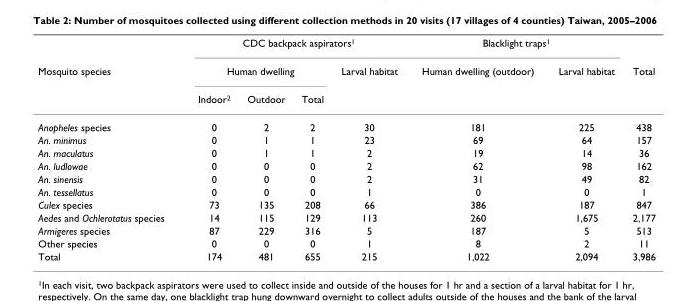table: (37, 36, 654, 261)
table column: (37, 36, 180, 261), (408, 36, 545, 261), (331, 36, 408, 261), (545, 36, 622, 261), (180, 36, 238, 261), (238, 36, 292, 261), (292, 36, 331, 261), (622, 36, 654, 261)
table column header: (37, 36, 654, 112)
table row: (37, 56, 654, 84), (37, 84, 654, 112), (37, 112, 654, 133), (37, 36, 654, 56), (37, 133, 654, 146), (37, 158, 654, 171), (37, 171, 654, 184), (37, 184, 654, 197), (37, 197, 654, 210), (37, 210, 654, 223), (37, 223, 654, 236), (37, 236, 654, 249), (37, 146, 654, 158), (37, 249, 654, 261)
table spanning cell: (37, 36, 180, 112), (408, 56, 545, 112), (180, 36, 408, 56), (331, 56, 408, 112), (545, 56, 622, 112), (408, 36, 622, 56), (180, 56, 331, 84), (622, 36, 654, 112)
